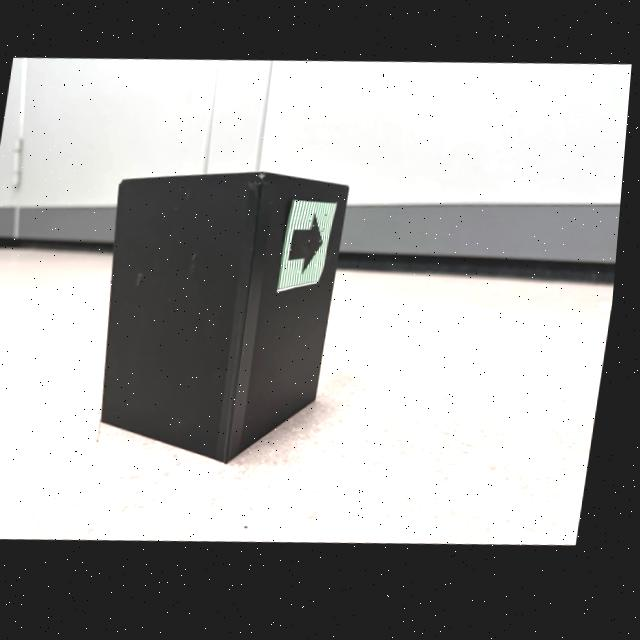RIGHT: (293, 218, 327, 277)
